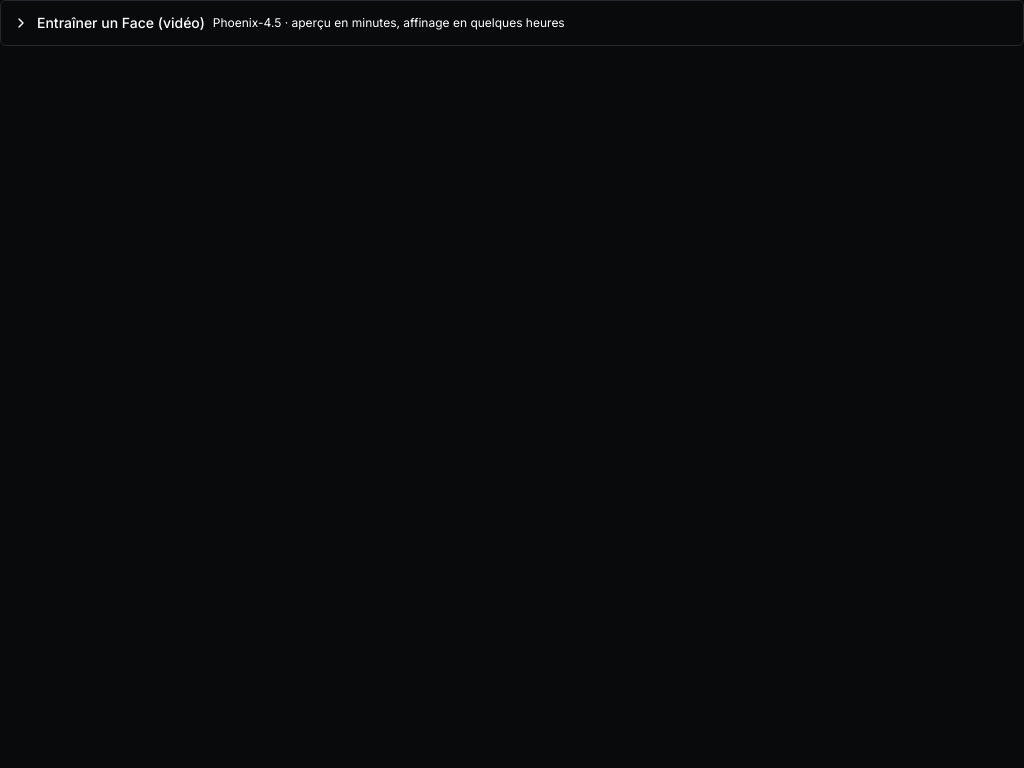
Test: TavusFaceTrainer › reports a Tavus read failure and refreshes by hand
Click the text "Entraîner un Face (vidéo)".
click(121, 23)  # box [37,13,205,33]
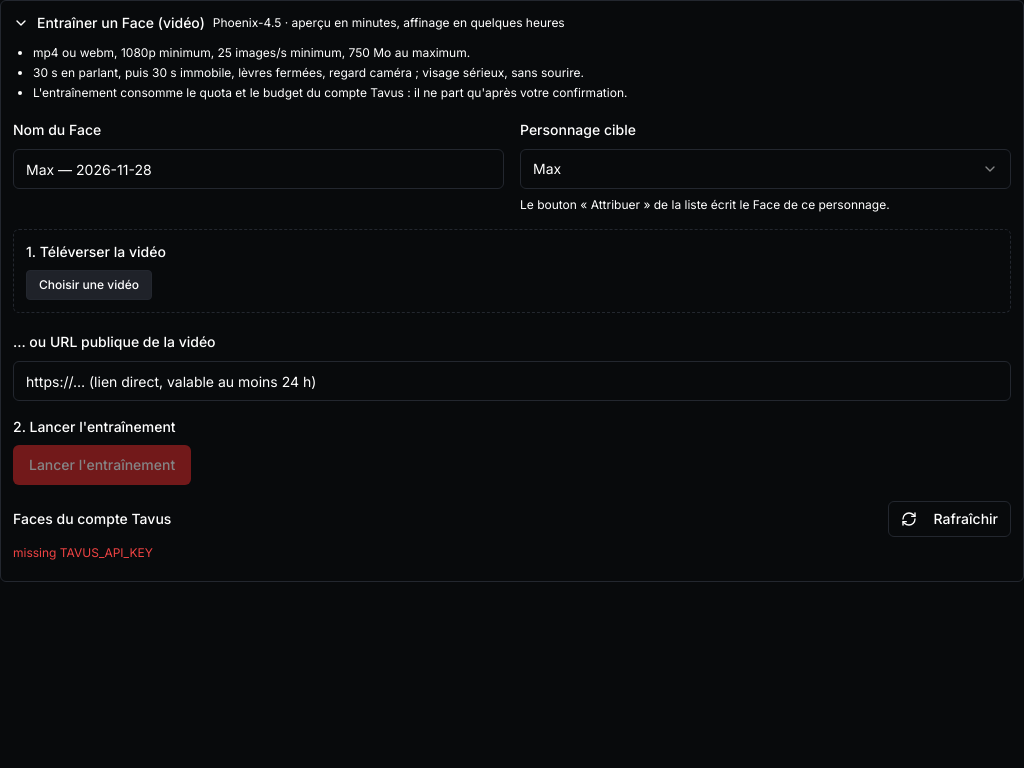
Expected: the text "missing TAVUS_API_KEY" is shown, [13,545,153,560]
Click the button "Rafraîchir".
click(950, 519)  # box [888,501,1011,537]
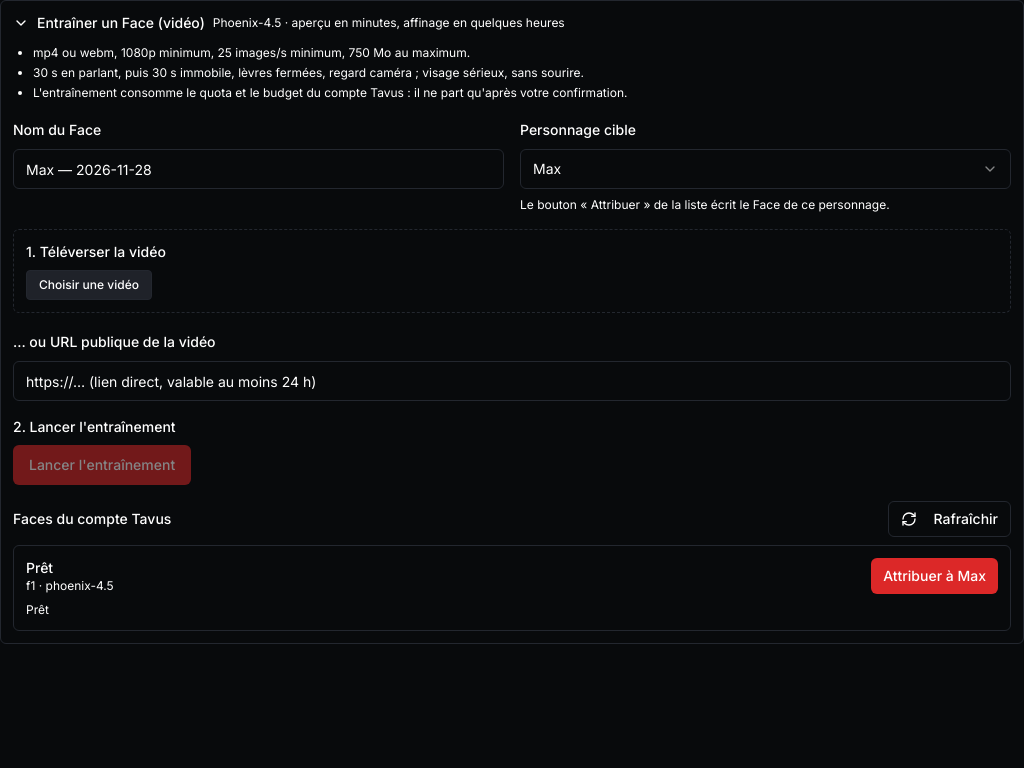
Expected: the 2nd text "Prêt" is shown, [26,602,49,617]
